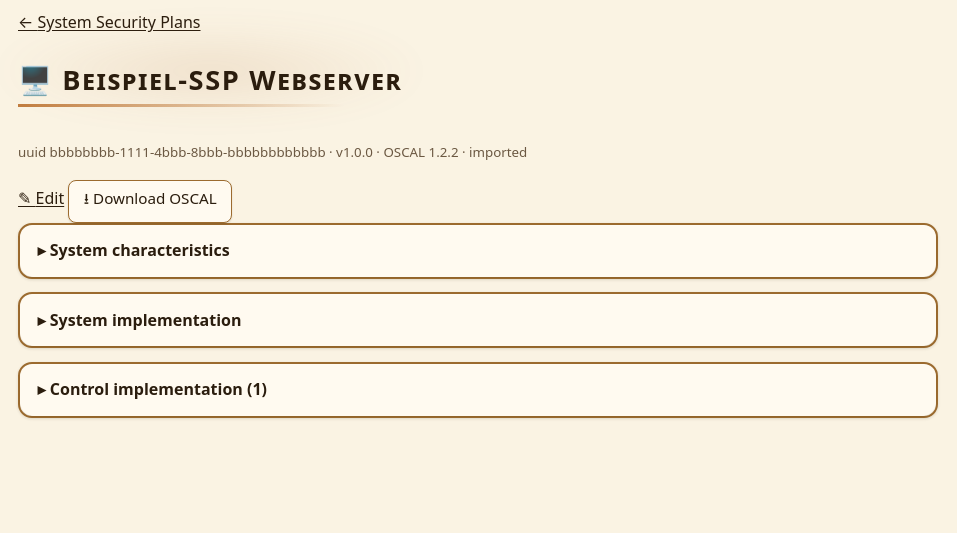
Test: detail page › shows a staleness badge for an imported component whose source has changed
This screenshot has width=957, height=533.
Click the button with test id "ssp-section-implementation-toggle". click: (146, 320)
box: [20,294,936,346]
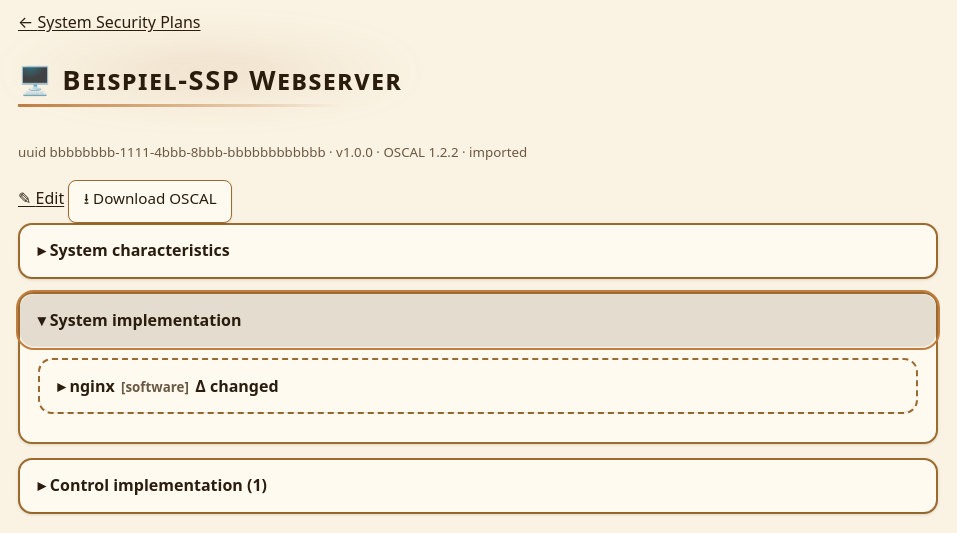
Result: the text "Δ changed" is shown at [195,374,278,398]
